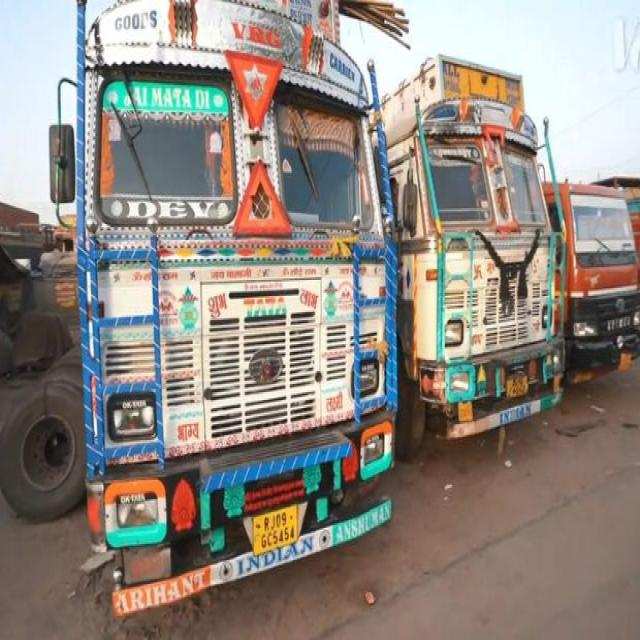Truck: (73, 0, 399, 599), (382, 57, 564, 457)
